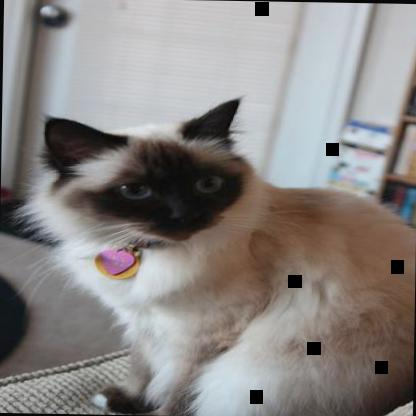cat: (32, 89, 415, 415)
